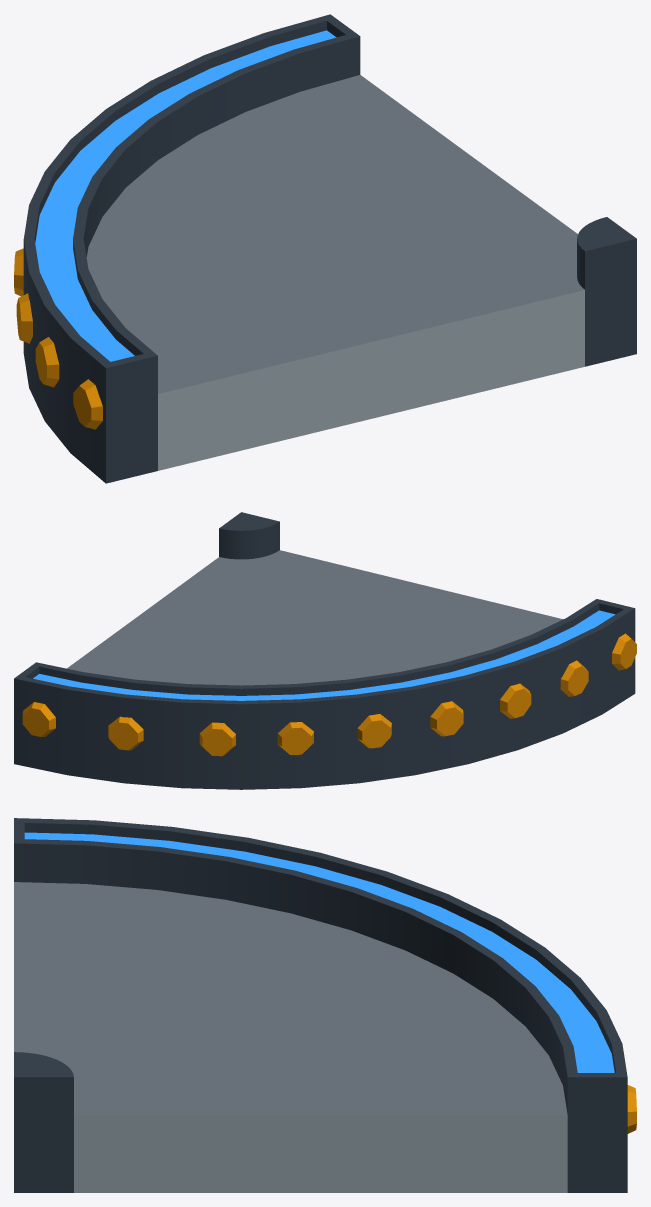
File: SM_Belt.fbx
3 renders of one model, top to bottom at view 1: azimuth 30°, elevation 25°; view 2: azimuth 150°, elevation 25°; view 3: azimuth 270°, elevation 25°, orthographic. The views are drawn at different scales.
Parts seen in each view (by area): view 1: Belt; view 2: Belt; view 3: Belt.
Part boxes in pixels (x1,y1,x2,y2): Belt: (14, 14, 636, 483); Belt: (14, 512, 636, 789); Belt: (14, 818, 636, 1192).
Size of the model in its own units: 102 by 20.77 by 102.
